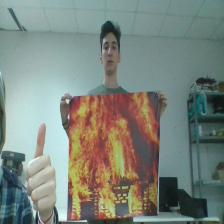fire-poster: (67, 92, 160, 220)
